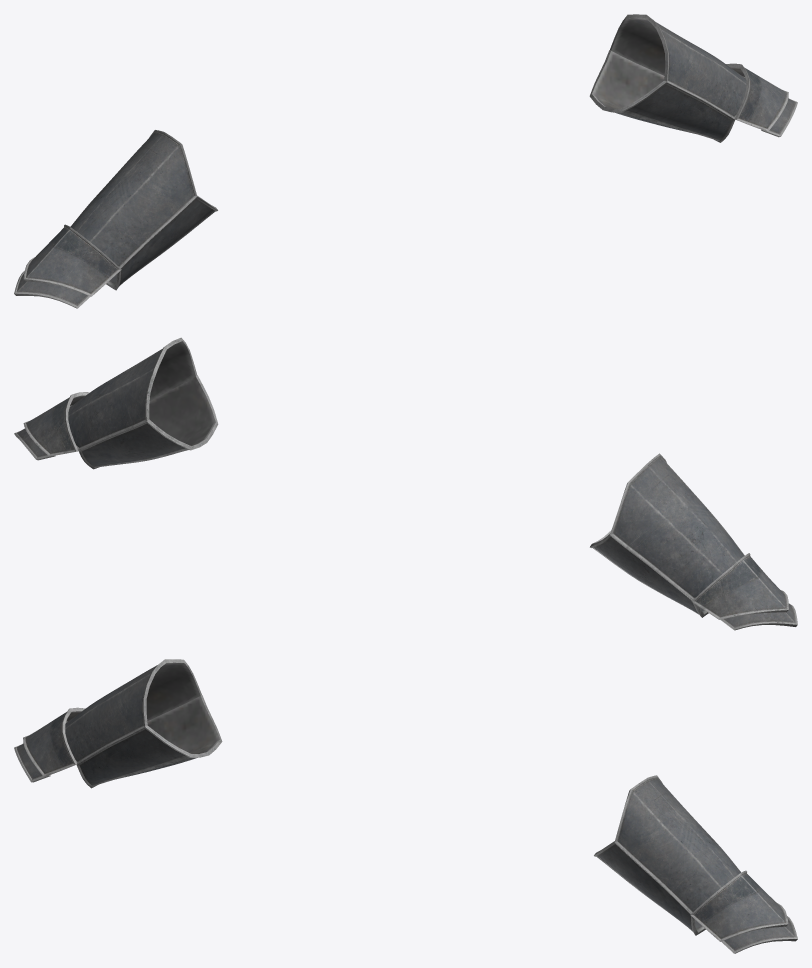
The model's file is sk_dwarf_erebor_bracers_heavy_b.fbx.
3 renders of one model, top to bottom at view 1: azimuth 30°, elevation 25°; view 2: azimuth 150°, elevation 25°; view 3: azimuth 330°, elevation 25°, orthographic.
Visible parts, largest first — view 1: sk_dwarf_erebor_bracers_heavy_b; view 2: sk_dwarf_erebor_bracers_heavy_b; view 3: sk_dwarf_erebor_bracers_heavy_b.
Part boxes in pixels (bbox=[...]): sk_dwarf_erebor_bracers_heavy_b: bbox=[14, 14, 797, 308]; sk_dwarf_erebor_bracers_heavy_b: bbox=[14, 337, 797, 630]; sk_dwarf_erebor_bracers_heavy_b: bbox=[14, 659, 797, 953].
Size of the model in its own units: 1.39 by 0.1652 by 0.2297.
1 material, 1 textured.
